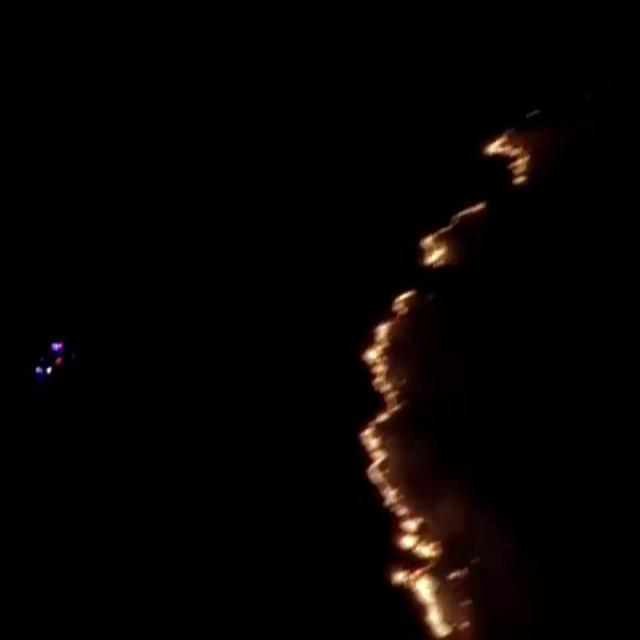Fire: (346, 278, 444, 560), (418, 205, 485, 268), (487, 136, 528, 187)
